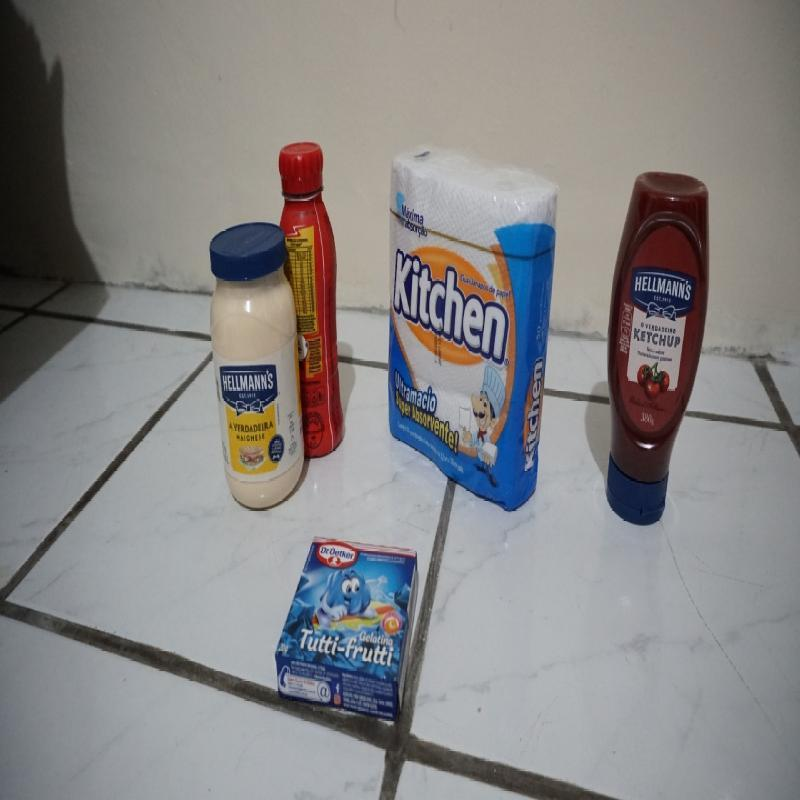Chocolate Milk: (274, 143, 346, 458)
Gelatine: (275, 533, 420, 718)
Ketchup: (604, 169, 714, 528)
Mayonnaise: (208, 217, 307, 512)
Napkin: (387, 141, 561, 513)
